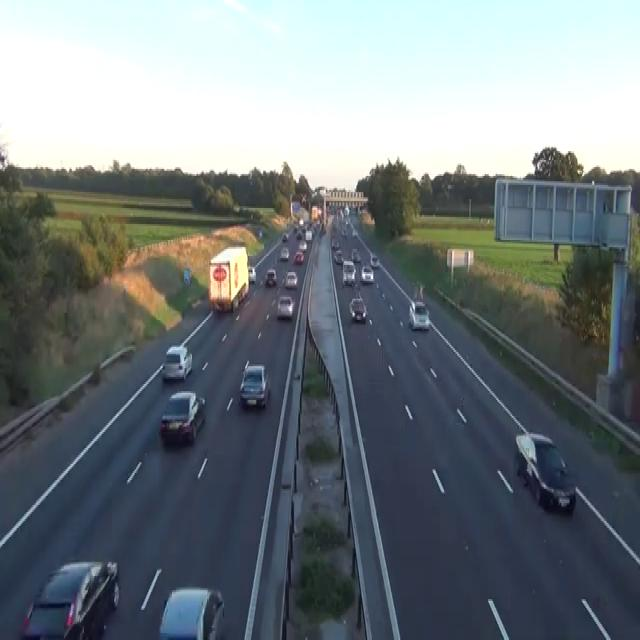Car: (20, 558, 119, 638), (514, 432, 576, 514), (158, 587, 225, 638), (159, 390, 205, 444), (239, 359, 270, 409), (161, 345, 192, 380), (408, 300, 429, 330), (348, 297, 367, 322), (277, 295, 294, 318), (342, 260, 356, 286), (360, 263, 374, 283), (284, 270, 297, 288), (265, 267, 277, 286), (247, 265, 256, 283), (351, 247, 360, 263), (334, 249, 343, 265), (183, 266, 191, 284), (279, 246, 289, 260), (293, 251, 304, 263), (370, 254, 379, 267), (305, 229, 312, 242), (331, 238, 339, 249), (299, 240, 307, 251), (233, 203, 240, 213), (282, 231, 288, 242), (320, 222, 326, 233), (340, 228, 347, 236), (344, 205, 349, 215), (296, 230, 302, 238), (298, 217, 303, 226), (293, 222, 298, 231), (352, 230, 357, 237), (258, 228, 262, 236), (345, 218, 349, 226)
Truck: (208, 243, 249, 313)
